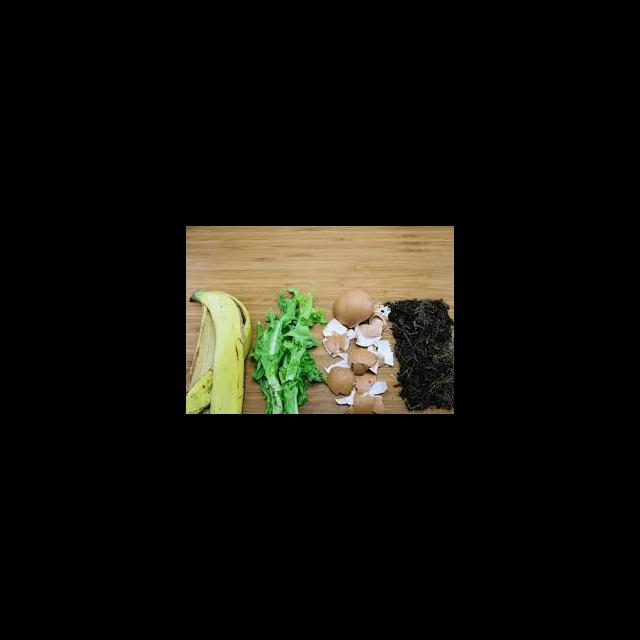food_waste: (249, 285, 324, 413), (186, 288, 254, 413), (382, 295, 453, 411), (329, 285, 376, 330), (343, 345, 381, 378), (321, 362, 358, 395), (349, 387, 385, 413)
